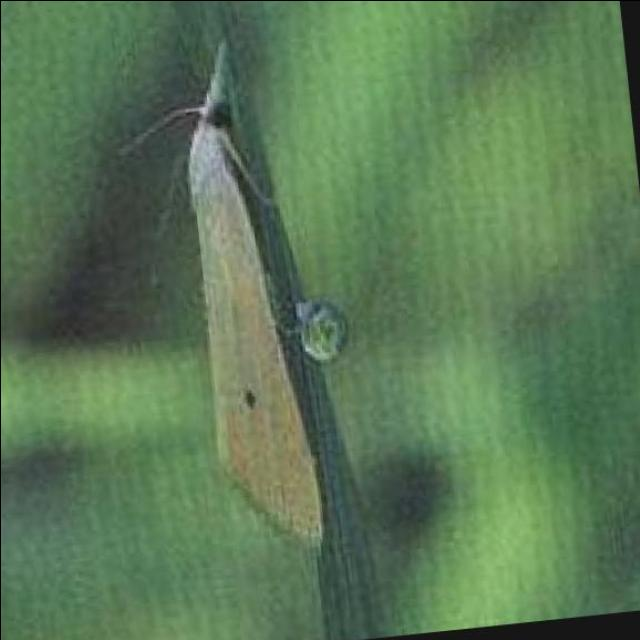stem borer: (187, 45, 323, 545)
